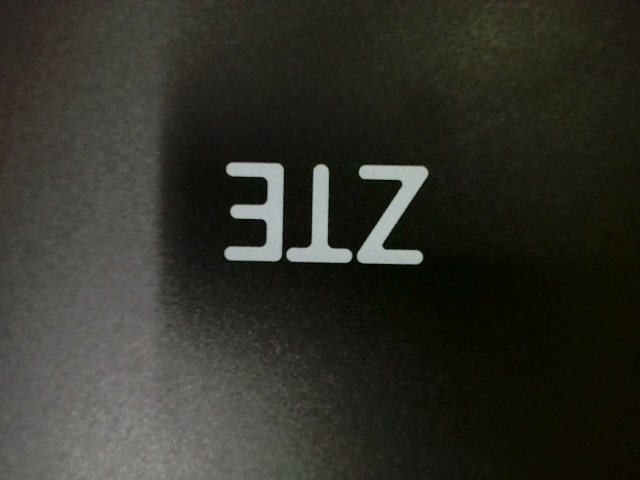AN_ZTE: (212, 149, 440, 272)
